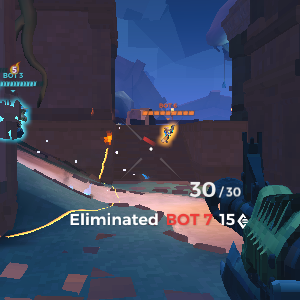model: (159, 119, 178, 147)
